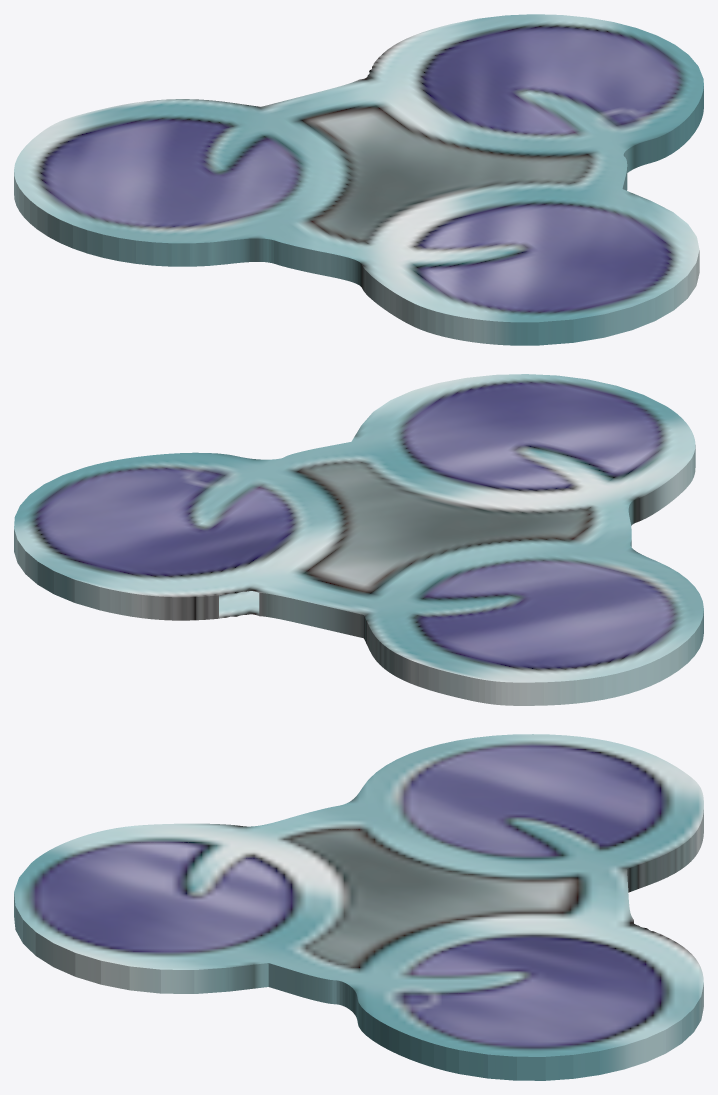
3 views of the same model, one above another, from view 1: azimuth 30°, elevation 25°; view 2: azimuth 150°, elevation 25°; view 3: azimuth 270°, elevation 25° (orthographic). The views are drawn at different scales.
Parts seen in each view (by area): view 1: path1587; view 2: path1587; view 3: path1587.
Part boxes in pixels (bbox=[...]): path1587: bbox=[14, 14, 703, 345]; path1587: bbox=[14, 374, 703, 705]; path1587: bbox=[14, 734, 703, 1080].
Bounding box in the file's own units: 86.55 × 3 × 78.2.
1 material, 1 textured.
